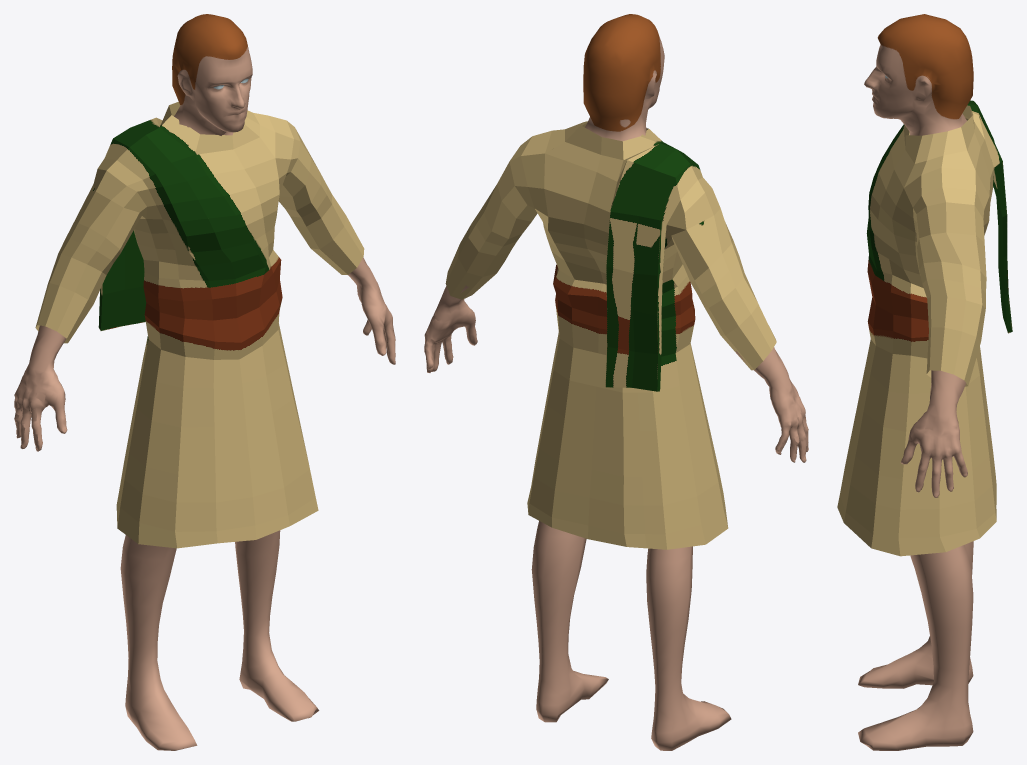
Rendered from male_npc1.fbx.
The picture shows the model from 3 angles, left to right: view 1: azimuth 30°, elevation 25°; view 2: azimuth 150°, elevation 25°; view 3: azimuth 270°, elevation 25°; orthographic projection.
Visible parts, largest first — view 1: lowClot, low; view 2: lowClot, low; view 3: lowClot, low.
Part boxes in pixels (box(x1,y1,x2,y2)): lowClot: box(35, 101, 364, 548); low: box(14, 14, 395, 750); lowClot: box(445, 121, 776, 549); low: box(424, 14, 808, 750); lowClot: box(837, 100, 1012, 556); low: box(858, 14, 973, 750).
Size of the model in its own units: 98.1 by 175 by 40.02.
